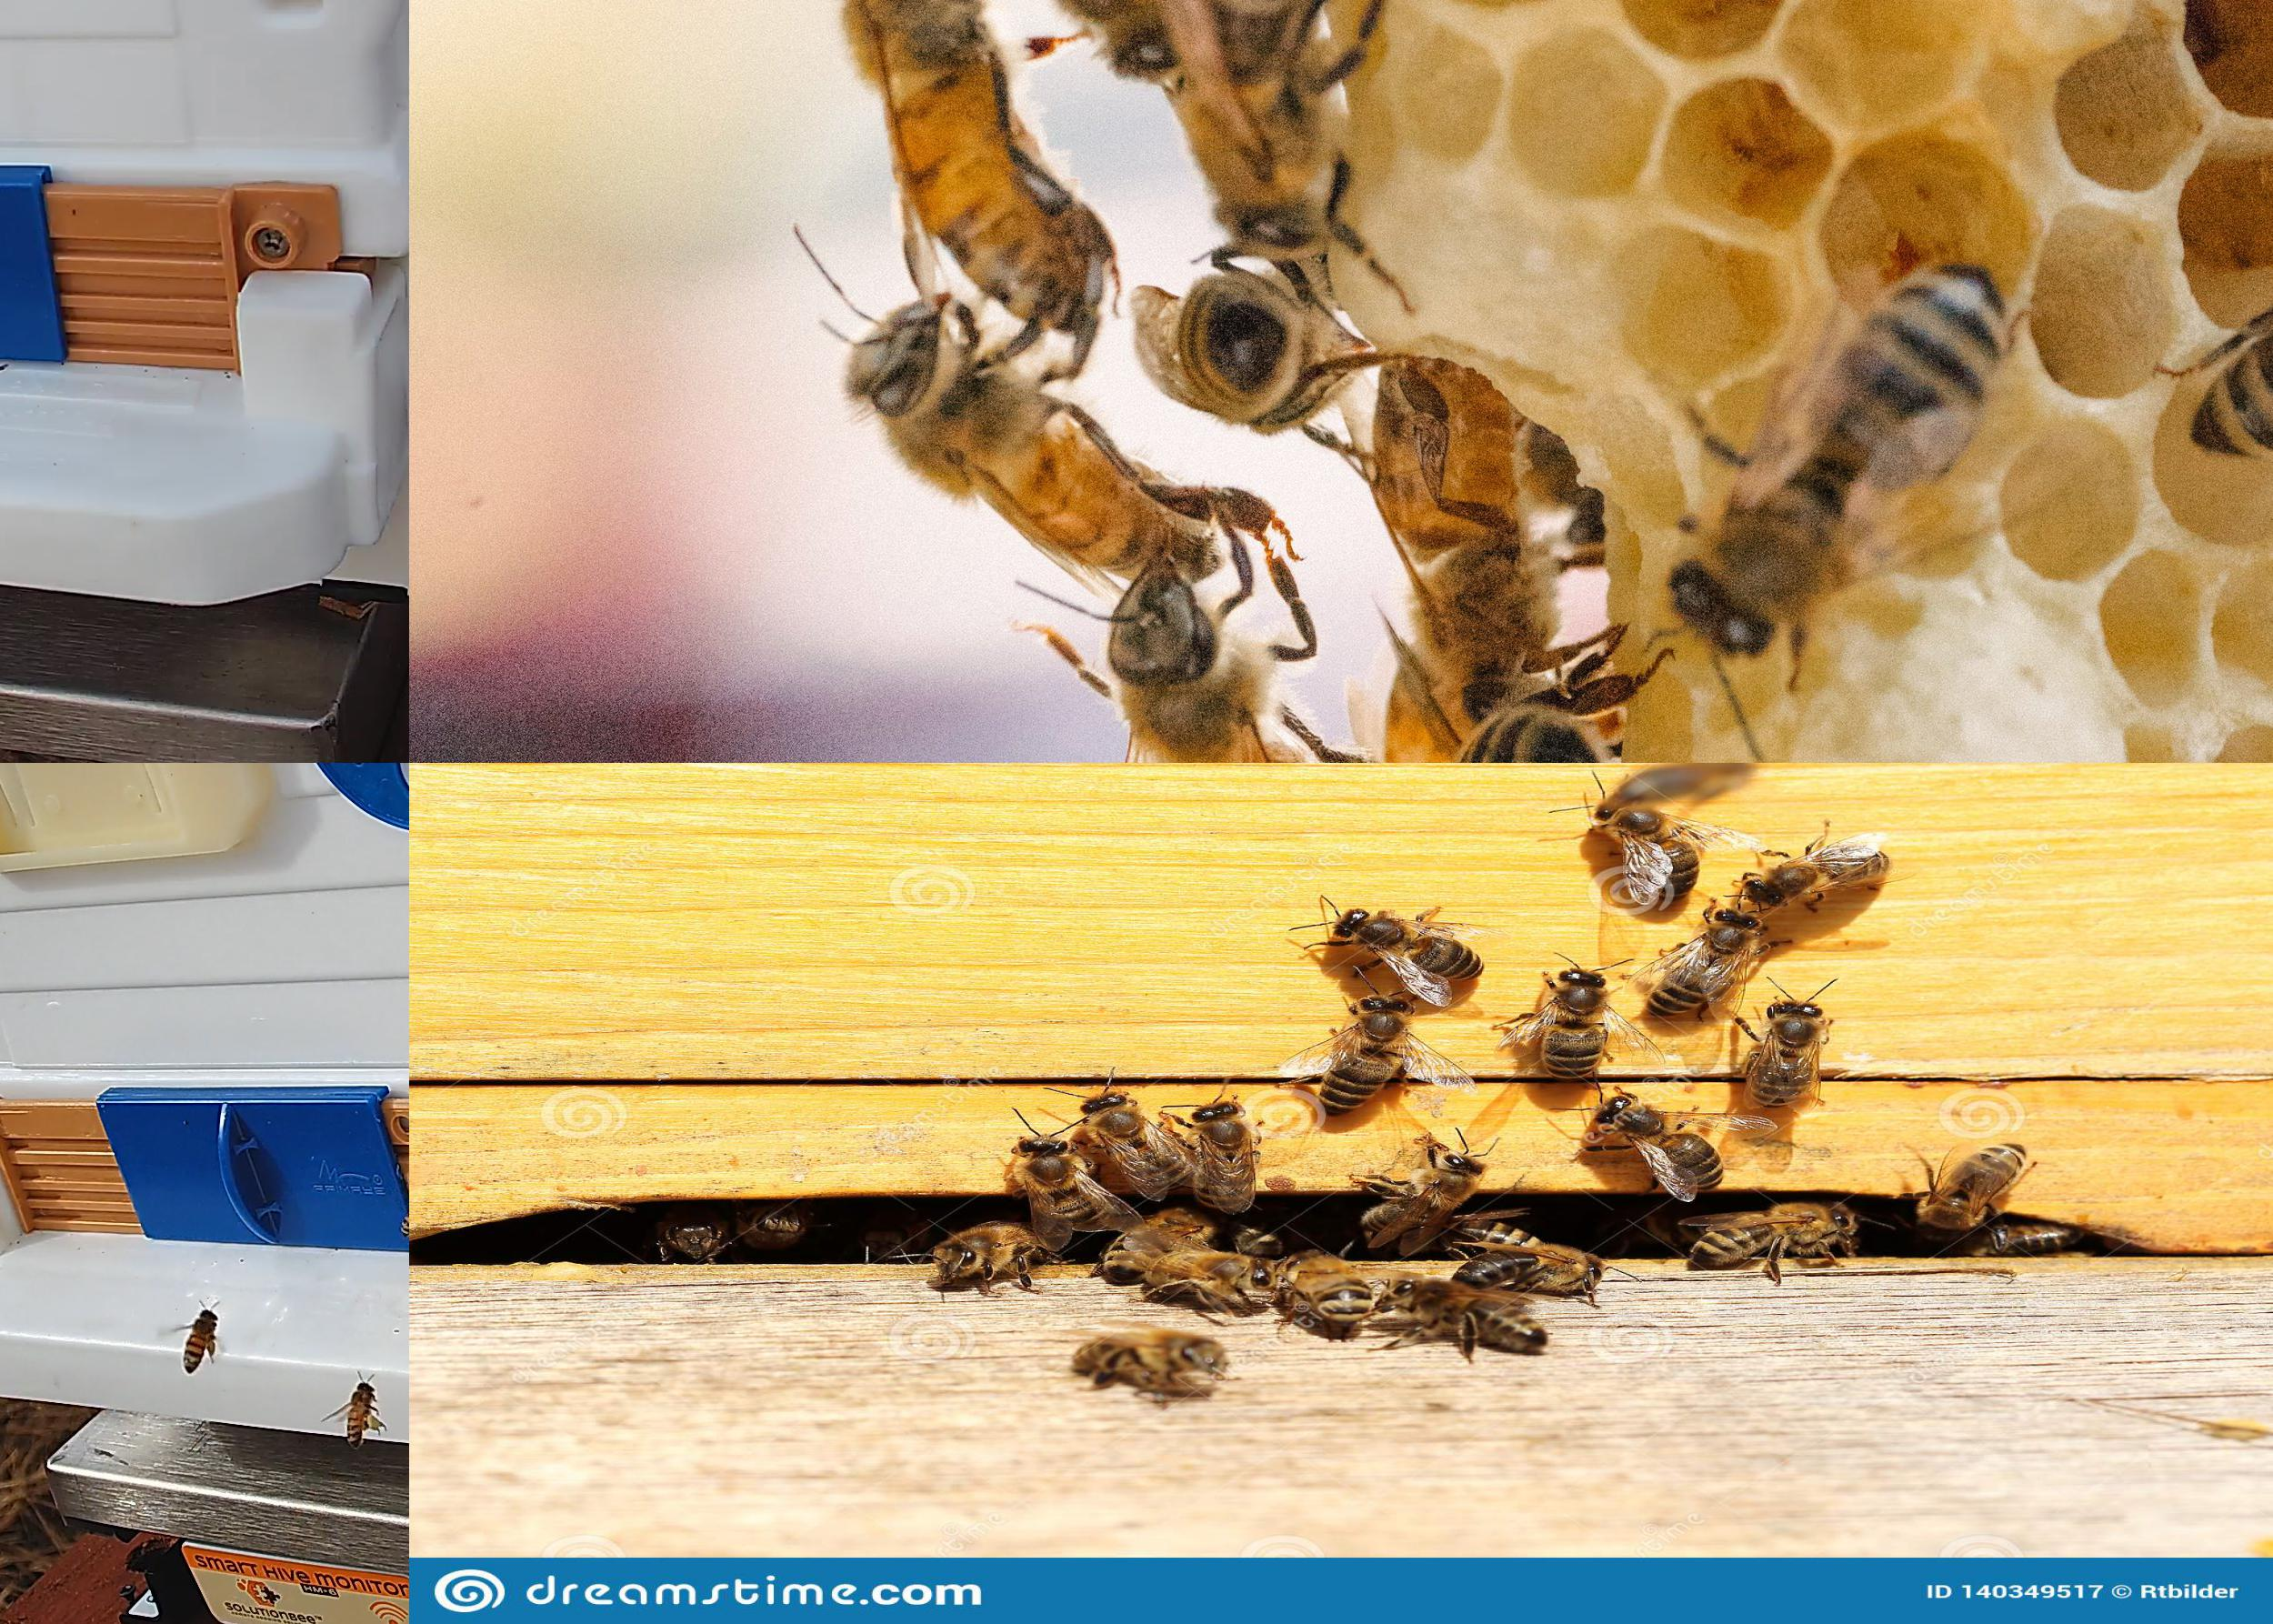bee: (1683, 260, 2006, 649), (840, 302, 1223, 573), (843, 0, 1108, 329), (1100, 555, 1337, 763), (1374, 332, 1541, 617), (1173, 0, 1335, 255), (1381, 550, 1541, 763), (1186, 281, 1363, 434), (2185, 276, 2271, 452), (1646, 909, 1765, 1014), (1595, 1098, 1721, 1190), (1391, 1280, 1551, 1348), (1333, 910, 1483, 982), (1916, 1142, 2027, 1237), (1686, 1206, 1858, 1264), (1082, 1097, 1193, 1185), (1324, 998, 1409, 1111), (1598, 800, 1697, 895), (1014, 1134, 1117, 1223), (1367, 1155, 1484, 1232), (1465, 705, 1613, 763), (1744, 849, 1887, 905), (1748, 1002, 1823, 1106), (1282, 1250, 1375, 1327), (1077, 1330, 1217, 1381), (1542, 968, 1609, 1076), (1381, 1216, 1556, 1257), (1112, 1206, 1205, 1280), (940, 1227, 1052, 1287), (1453, 1244, 1609, 1287), (1193, 1102, 1249, 1204), (1147, 1253, 1272, 1294), (648, 1199, 732, 1255), (1621, 763, 1755, 794), (738, 1202, 817, 1248), (1959, 1225, 2085, 1253), (855, 1207, 927, 1250)
pollenbee: (348, 1381, 381, 1448), (184, 1309, 216, 1371)
